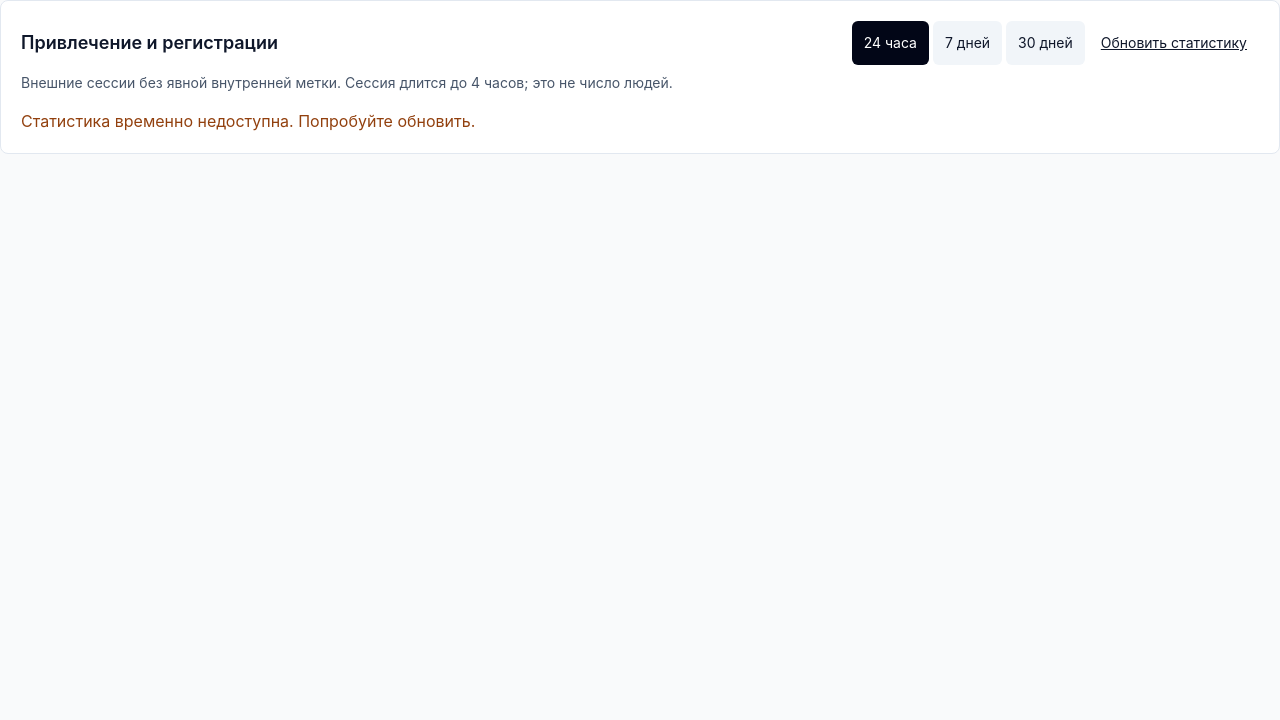
OwnerTraffic › shows errors instead of stale or zero metrics and supports retry
The width and height of the screenshot is (1280, 720).
Expected: the message shows "временно недоступна", 21,111 -> 475,131
Click the button "Обновить статистику": x=1174, y=43 1089,21 -> 1259,65
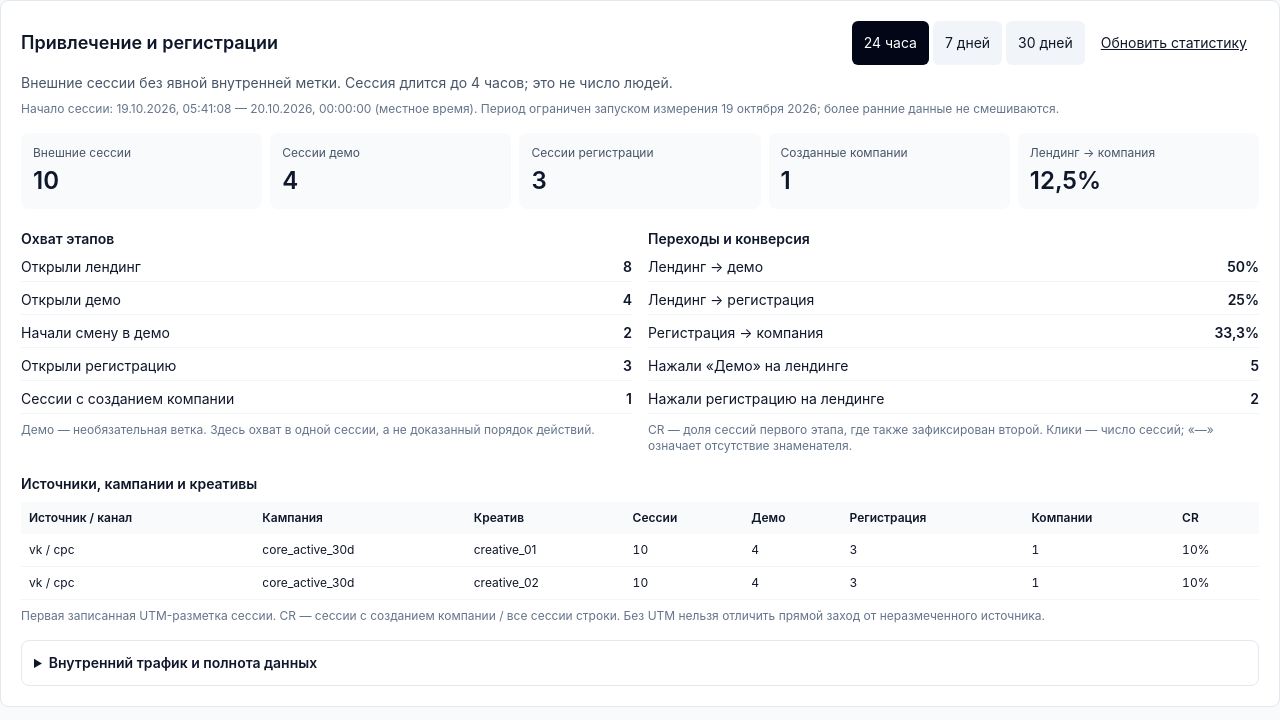
Expected: the text "Внешние сессии" is shown, 33,145 -> 131,160
